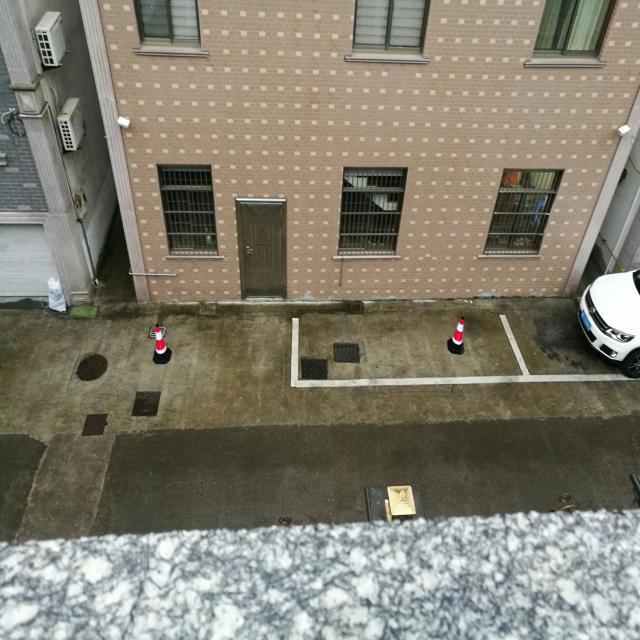car: (578, 264, 640, 373)
reflective_cone: (151, 324, 171, 365), (447, 315, 466, 354)
